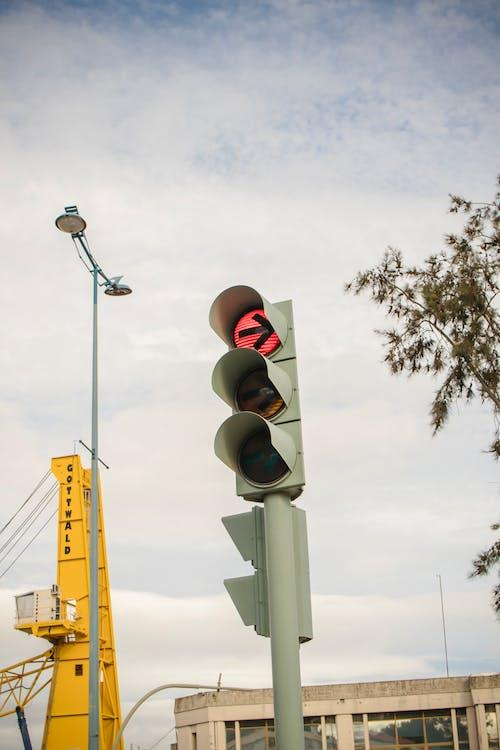red_light: (207, 283, 306, 500)
